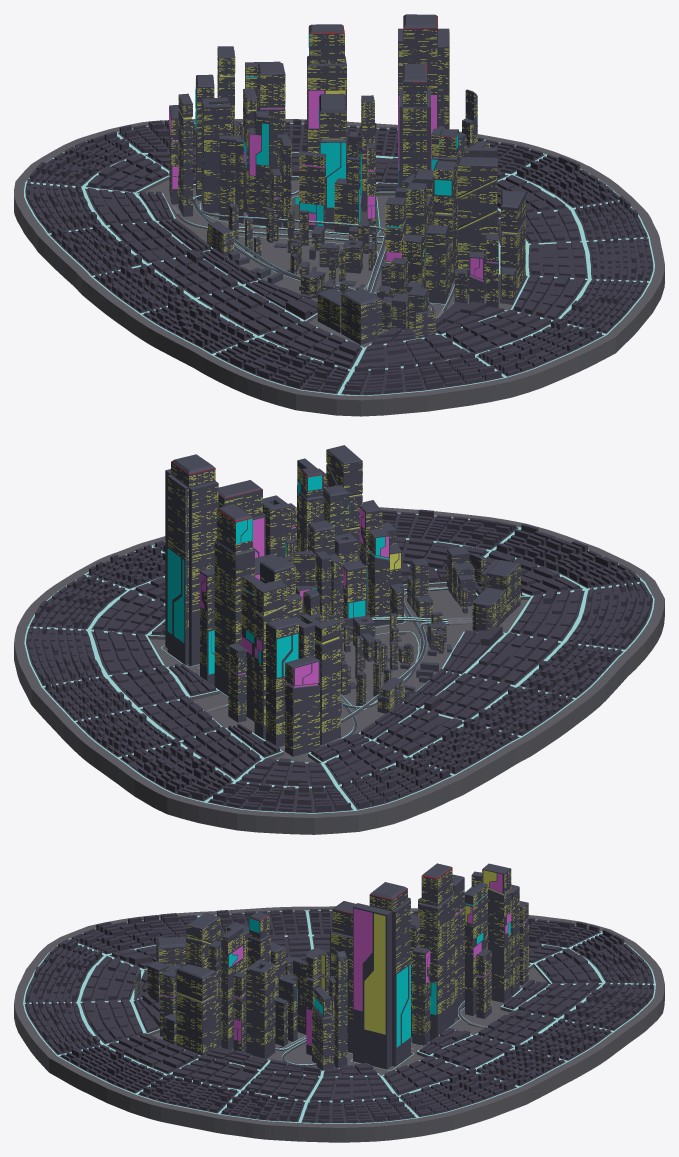
Rendered from Light_city_sketchfab1.fbx.
The picture shows the model from 3 angles, top to bottom: view 1: azimuth 30°, elevation 25°; view 2: azimuth 150°, elevation 25°; view 3: azimuth 270°, elevation 25°; orthographic projection. The views are drawn at different scales.
Parts seen in each view (by area): view 1: polySurface97, polySurface95, BL20, BL3, BL8 (×4), BL4, BL1, BL9 (×2), BL2, BL37, BL6, BL5 (+20 smaller); view 2: polySurface97, polySurface95, BL3, BL4, BL8 (×2), B23, BL14 (×2), BL42, BL21, BL20, BL1, BL9 (+17 smaller); view 3: polySurface97, BL3, BL4, BL8 (×2), BL28, BL26, BL9, BL29, BL1, BL14, BL34, BL45 (+22 smaller).
Part boxes in pixels (x1,y1,x2,y2): polySurface97: (14, 119, 664, 416); polySurface95: (207, 203, 467, 338); BL20: (457, 157, 497, 294); BL3: (398, 14, 449, 187); BL8 (×4): (217, 46, 484, 302); BL4: (307, 24, 347, 157); BL1: (398, 64, 430, 187); BL9 (×2): (243, 88, 325, 230); BL2: (318, 93, 346, 229); BL37: (202, 97, 230, 212); BL6: (248, 111, 269, 225); BL5: (258, 63, 285, 208); polySurface97: (14, 507, 664, 834); polySurface95: (322, 547, 485, 713); BL3: (165, 454, 218, 666); BL4: (214, 504, 254, 695); BL8 (×2): (254, 528, 389, 739); B23: (285, 655, 320, 756); BL14 (×2): (200, 560, 366, 686); BL42: (266, 617, 298, 746); BL21: (315, 619, 340, 745); BL20: (326, 445, 362, 555); BL1: (218, 480, 265, 557); BL9: (241, 574, 264, 721); polySurface97: (14, 906, 664, 1142); BL3: (353, 882, 410, 1069); BL4: (420, 863, 454, 1041); BL8 (×2): (233, 863, 511, 1052); BL28: (176, 964, 216, 1055); BL26: (246, 959, 275, 1058); BL9: (465, 882, 487, 1015); BL29: (221, 925, 243, 1049); BL1: (330, 901, 355, 1053); BL14: (412, 946, 430, 1045); BL34: (312, 987, 333, 1070); BL45: (334, 951, 347, 1068).
Bounding box in the file's own units: 475 × 206 × 590.
